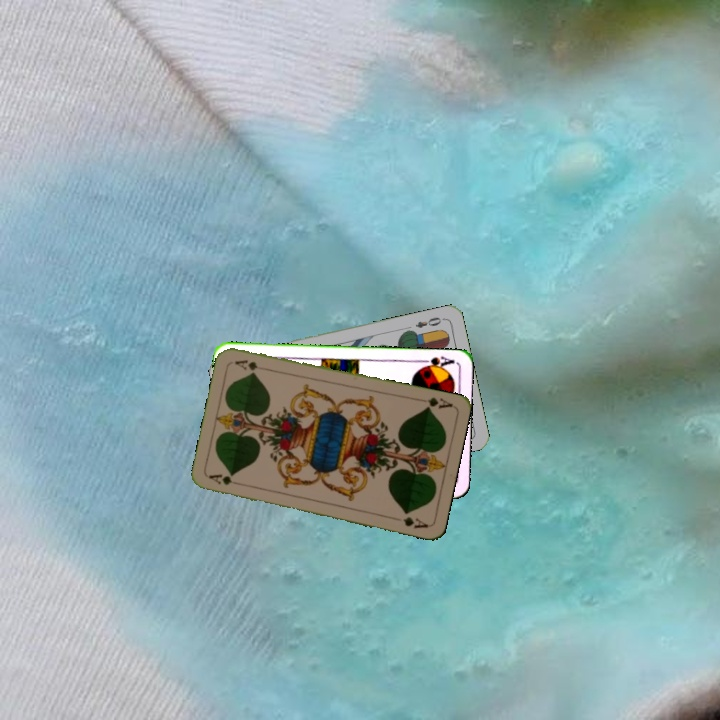EO: (411, 313, 447, 331)
GA: (414, 393, 455, 412), (205, 470, 245, 488)
SA: (416, 352, 457, 372)
